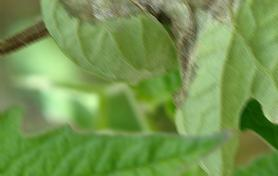Tomato leaf late blight: (36, 0, 278, 176), (0, 63, 270, 176)
